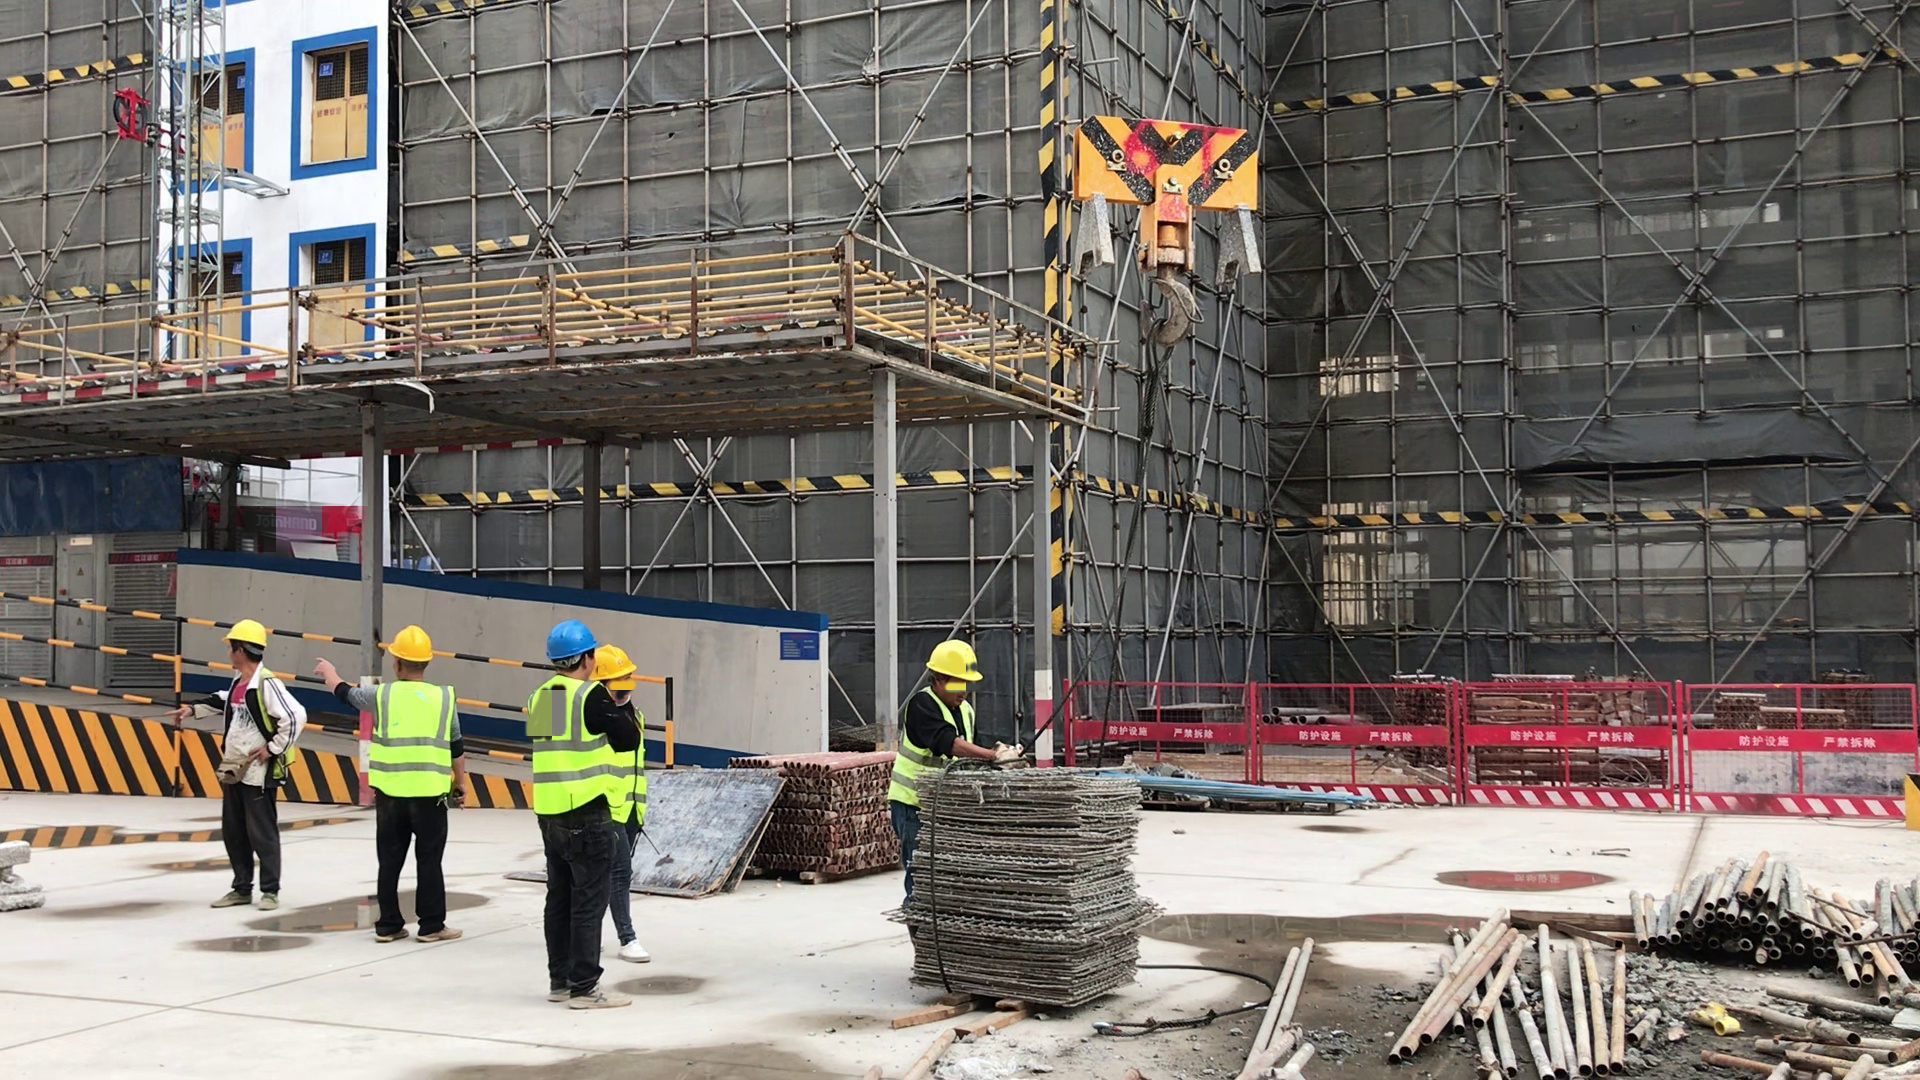fence: (1065, 670, 1920, 826)
helmet: (923, 630, 985, 692), (376, 618, 443, 668), (541, 619, 602, 672), (222, 614, 283, 663), (589, 643, 640, 688)
hook: (1063, 101, 1270, 300)
person: (319, 627, 476, 938), (519, 615, 609, 1016), (192, 615, 296, 921), (596, 646, 667, 978), (865, 640, 993, 816)
scaffold: (1606, 854, 1912, 977), (728, 734, 876, 878)
vest: (363, 678, 456, 797), (890, 692, 990, 799), (533, 678, 596, 810), (603, 695, 645, 817)
